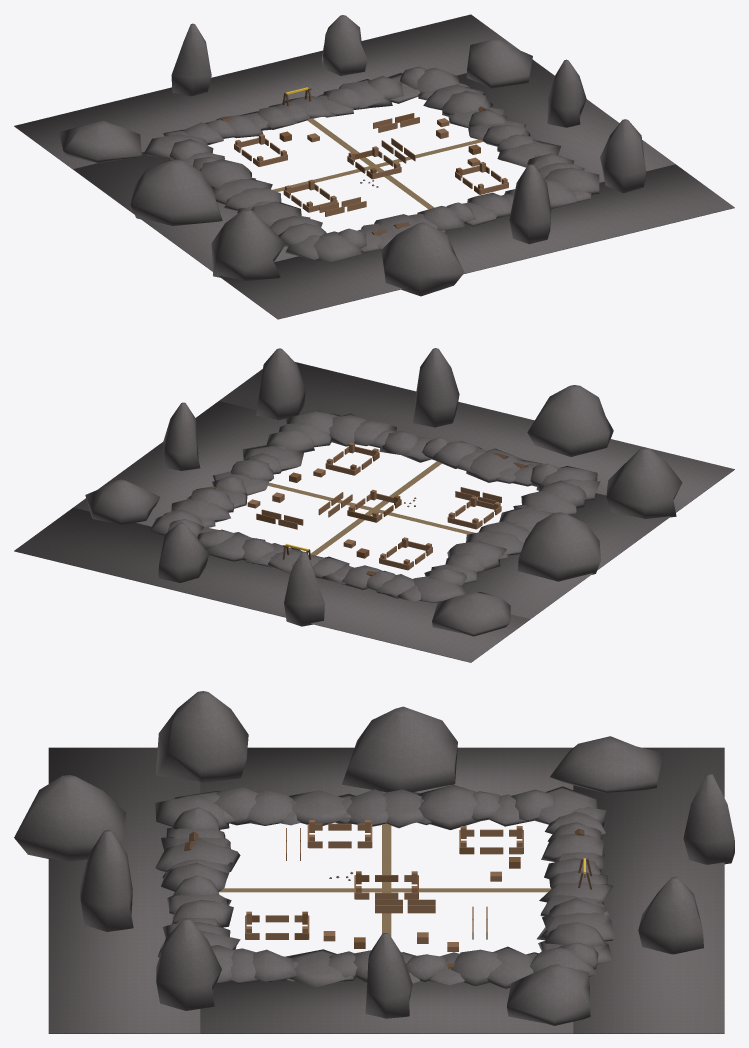
File: saisekiba-lod2.glb
3 renders of one model, top to bottom at view 1: azimuth 30°, elevation 25°; view 2: azimuth 150°, elevation 25°; view 3: azimuth 270°, elevation 25°, orthographic. The views are drawn at different scales.
Visible parts, largest first — view 1: HB_saisekiba_LOD2_terrain, HB_saisekiba_LOD2_wall, HB_saisekiba_LOD2_road, HB_saisekiba_LOD2_wall_alt; view 2: HB_saisekiba_LOD2_terrain, HB_saisekiba_LOD2_wall, HB_saisekiba_LOD2_road, HB_saisekiba_LOD2_wall_alt; view 3: HB_saisekiba_LOD2_terrain, HB_saisekiba_LOD2_wall, HB_saisekiba_LOD2_road, HB_saisekiba_LOD2_wall_alt.
Part boxes in pixels (x1,y1,x2,y2): HB_saisekiba_LOD2_terrain: (14, 14, 734, 319); HB_saisekiba_LOD2_wall: (234, 117, 508, 216); HB_saisekiba_LOD2_road: (272, 118, 483, 209); HB_saisekiba_LOD2_wall_alt: (227, 110, 489, 235); HB_saisekiba_LOD2_terrain: (14, 348, 734, 662); HB_saisekiba_LOD2_wall: (247, 442, 501, 570); HB_saisekiba_LOD2_road: (268, 461, 474, 555); HB_saisekiba_LOD2_wall_alt: (256, 452, 521, 575); HB_saisekiba_LOD2_terrain: (14, 691, 734, 1033); HB_saisekiba_LOD2_wall: (245, 820, 523, 951); HB_saisekiba_LOD2_road: (219, 823, 551, 936); HB_saisekiba_LOD2_wall_alt: (252, 835, 583, 969).
Size of the model in its own units: 589 by 85.89 by 619.
8 materials, 7 textured.
